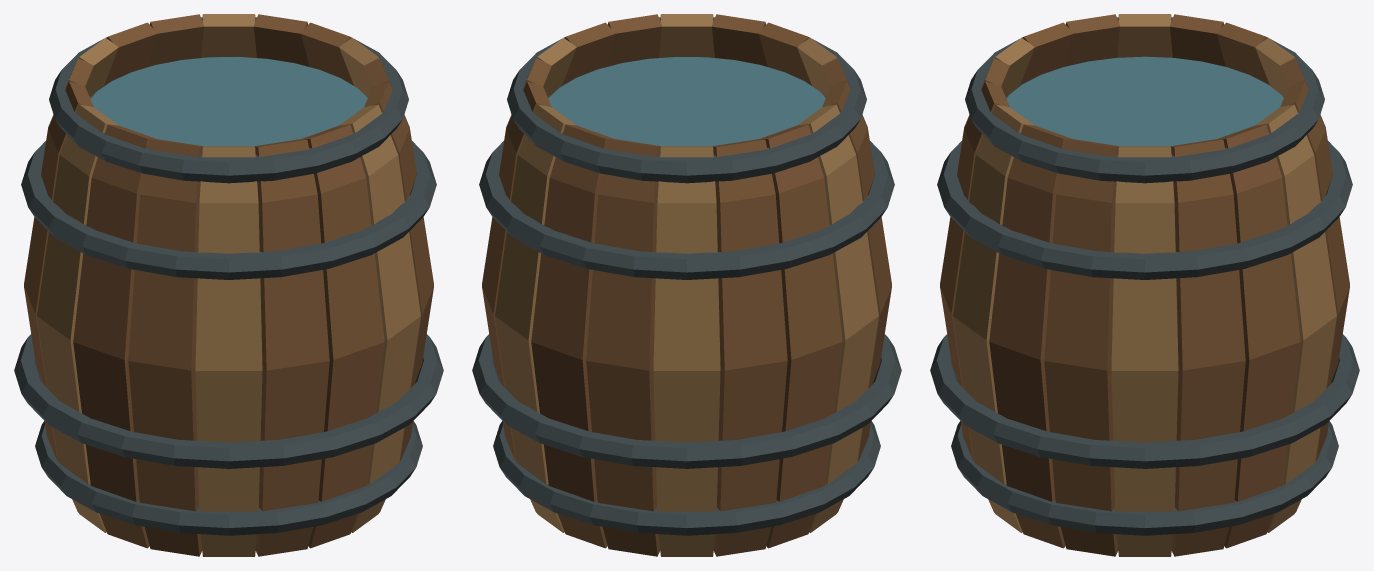
Rendered from SM_WaterBarrel.fbx.
3 views of the same model, side by side, from view 1: azimuth 30°, elevation 25°; view 2: azimuth 150°, elevation 25°; view 3: azimuth 270°, elevation 25° (orthographic).
Visible parts, largest first — view 1: Curved oak stave.012, Curved oak stave.011, Curved oak stave.013, Contained water, Curved oak stave.010, Curved oak stave.014, Iron barrel hoop.001, Iron barrel hoop.002, Iron barrel hoop.003, Curved oak stave.009, Curved oak stave.015, Iron barrel hoop (+11 smaller); view 2: Curved oak stave.006, Curved oak stave.005, Curved oak stave.007, Contained water, Curved oak stave.004, Curved oak stave.008, Iron barrel hoop.001, Iron barrel hoop.002, Iron barrel hoop.003, Curved oak stave.003, Curved oak stave.009, Iron barrel hoop (+11 smaller); view 3: Curved oak stave, Curved oak stave.017, Curved oak stave.001, Contained water, Curved oak stave.002, Curved oak stave.016, Iron barrel hoop.001, Iron barrel hoop.002, Iron barrel hoop.003, Curved oak stave.003, Curved oak stave.015, Iron barrel hoop (+11 smaller).
Boxes of the visible parts, box(x1,y1,x2,y2) form: Curved oak stave.012: box(195, 146, 262, 556); Curved oak stave.011: box(128, 139, 203, 556); Curved oak stave.013: box(254, 139, 329, 556); Contained water: box(90, 56, 367, 146); Curved oak stave.010: box(73, 124, 155, 548); Curved oak stave.014: box(302, 124, 384, 548); Iron barrel hoop.001: box(14, 334, 443, 468); Iron barrel hoop.002: box(21, 141, 436, 279); Iron barrel hoop.003: box(49, 17, 408, 183); Curved oak stave.009: box(37, 104, 117, 532); Curved oak stave.015: box(340, 104, 420, 532); Iron barrel hoop: box(35, 421, 422, 535); Curved oak stave.006: box(653, 146, 720, 556); Curved oak stave.005: box(586, 139, 661, 556); Curved oak stave.007: box(712, 139, 787, 556); Contained water: box(548, 56, 825, 146); Curved oak stave.004: box(531, 124, 613, 548); Curved oak stave.008: box(760, 124, 842, 548); Iron barrel hoop.001: box(472, 334, 901, 468); Iron barrel hoop.002: box(479, 141, 894, 279); Iron barrel hoop.003: box(507, 17, 866, 183); Curved oak stave.003: box(495, 104, 575, 532); Curved oak stave.009: box(798, 104, 878, 532); Iron barrel hoop: box(493, 421, 880, 535); Curved oak stave: box(1111, 146, 1178, 556); Curved oak stave.017: box(1044, 139, 1119, 556); Curved oak stave.001: box(1170, 139, 1245, 556); Contained water: box(1006, 56, 1283, 146); Curved oak stave.002: box(1218, 124, 1300, 548); Curved oak stave.016: box(989, 124, 1071, 548); Iron barrel hoop.001: box(930, 334, 1359, 468); Iron barrel hoop.002: box(937, 141, 1352, 279); Iron barrel hoop.003: box(965, 17, 1324, 183); Curved oak stave.003: box(1256, 104, 1336, 532); Curved oak stave.015: box(953, 104, 1033, 532); Iron barrel hoop: box(951, 421, 1338, 535).
Size of what is drawn, in the model's own units: 124 by 130 by 124.
